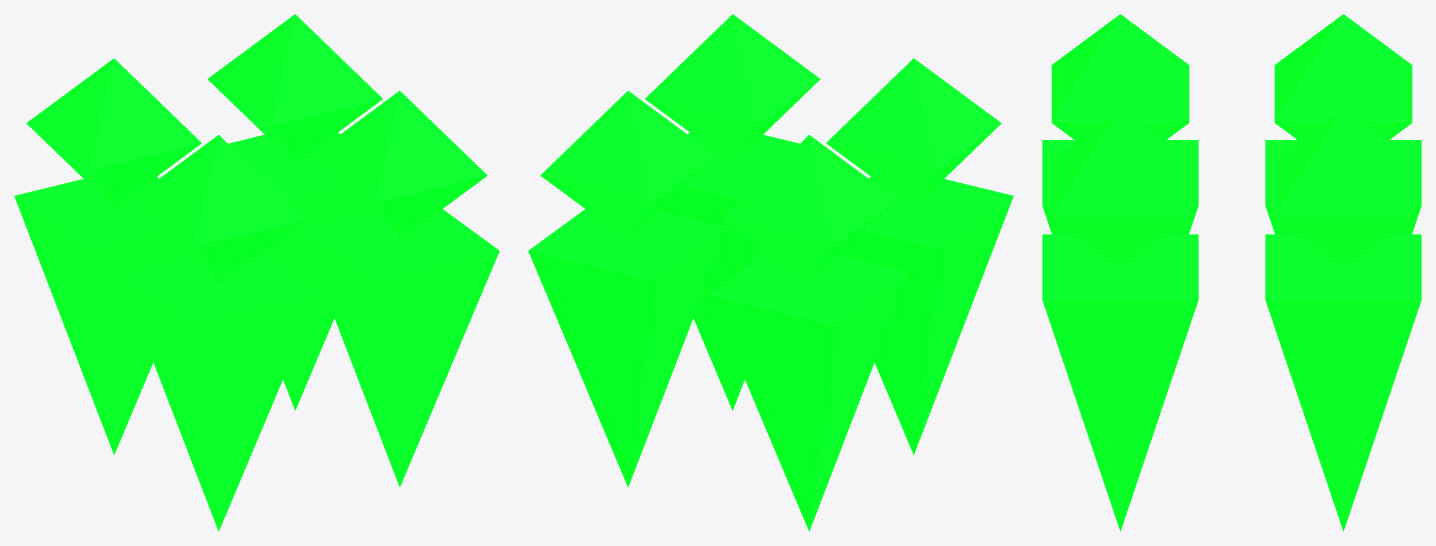
The model's file is person_g04.glb.
3 renders of one model, left to right at view 1: azimuth 30°, elevation 25°; view 2: azimuth 150°, elevation 25°; view 3: azimuth 270°, elevation 25°, orthographic. The views are drawn at different scales.
Parts seen in each view (by area): view 1: person.012, person.011, person.014, person.013; view 2: person.014, person.013, person.012, person.011; view 3: person.011, person.013, person.012, person.014.
Part boxes in pixels (bbox=[...]): person.012: bbox=[119, 135, 318, 531]; person.011: bbox=[300, 90, 499, 487]; person.014: bbox=[14, 58, 201, 454]; person.013: bbox=[207, 14, 382, 410]; person.014: bbox=[709, 135, 908, 531]; person.013: bbox=[528, 90, 727, 487]; person.012: bbox=[826, 58, 1013, 454]; person.011: bbox=[645, 14, 820, 410]; person.011: bbox=[1042, 108, 1198, 531]; person.013: bbox=[1265, 108, 1421, 531]; person.012: bbox=[1042, 14, 1198, 234]; person.014: bbox=[1265, 14, 1421, 234].
Bounding box in the file's own units: 1.7 × 2.1 × 1.7.
